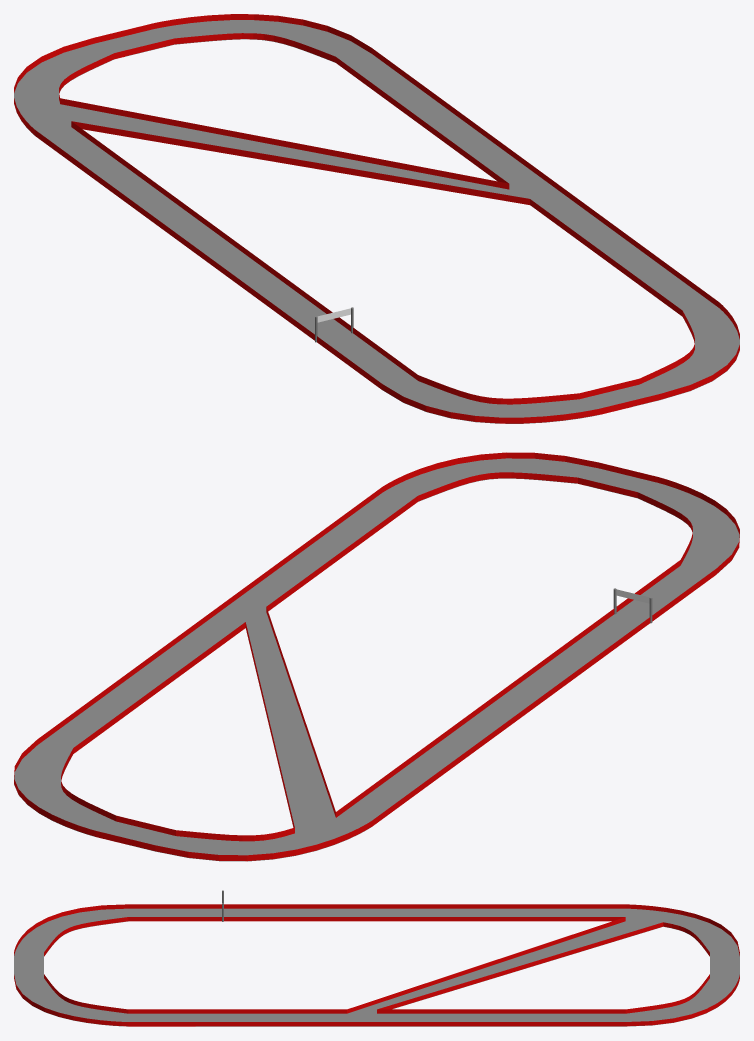
The model's file is steza.gltf.
3 renders of one model, top to bottom at view 1: azimuth 30°, elevation 25°; view 2: azimuth 150°, elevation 25°; view 3: azimuth 270°, elevation 25°, orthographic. The views are drawn at different scales.
Visible parts, largest first — view 1: track, rails; view 2: track, rails; view 3: track, rails.
Boxes of the visible parts, x1,y1,x2,y2 form: track: [14, 20, 739, 423]; rails: [14, 14, 739, 423]; track: [14, 458, 739, 861]; rails: [14, 452, 739, 861]; track: [14, 908, 739, 1026]; rails: [14, 904, 739, 1026].
Bounding box in the file's own units: 56.2 × 4 × 146.
